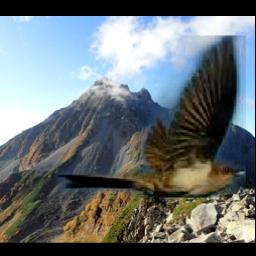Cuckoo: (56, 36, 247, 198)
